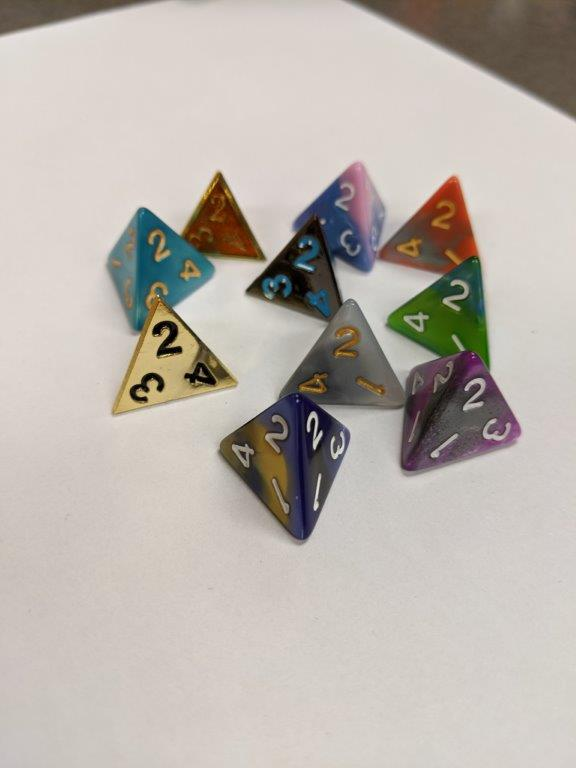d4-2: (212, 386, 355, 557), (93, 302, 238, 416), (405, 350, 519, 479), (283, 295, 404, 412), (98, 202, 212, 320), (380, 248, 492, 360), (292, 154, 384, 274), (379, 161, 473, 267), (244, 211, 337, 317), (179, 164, 264, 268)
